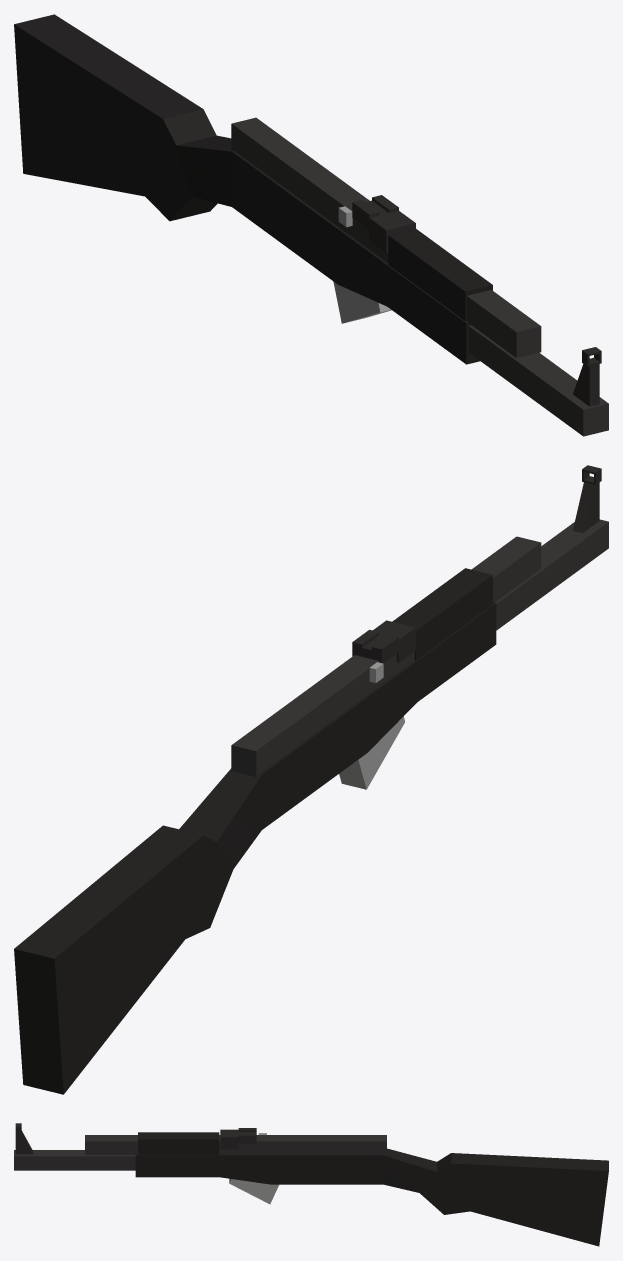
File: RifleKS.FBX
3 views of the same model, one above another, from view 1: azimuth 30°, elevation 25°; view 2: azimuth 150°, elevation 25°; view 3: azimuth 270°, elevation 25° (orthographic). The views are drawn at different scales.
Visible parts, largest first — view 1: RifleKS, RifleKS_Mag; view 2: RifleKS, RifleKS_Mag; view 3: RifleKS, RifleKS_Mag.
Boxes of the visible parts, left/top/right/bottom form: RifleKS: left=14, top=14, right=608, bottom=436; RifleKS_Mag: left=333, top=281, right=391, bottom=323; RifleKS: left=14, top=465, right=608, bottom=1094; RifleKS_Mag: left=339, top=716, right=404, bottom=789; RifleKS: left=14, top=1123, right=608, bottom=1246; RifleKS_Mag: left=229, top=1178, right=278, bottom=1204.
Bounding box in the file's own units: 10.44 × 251 × 54.06.
